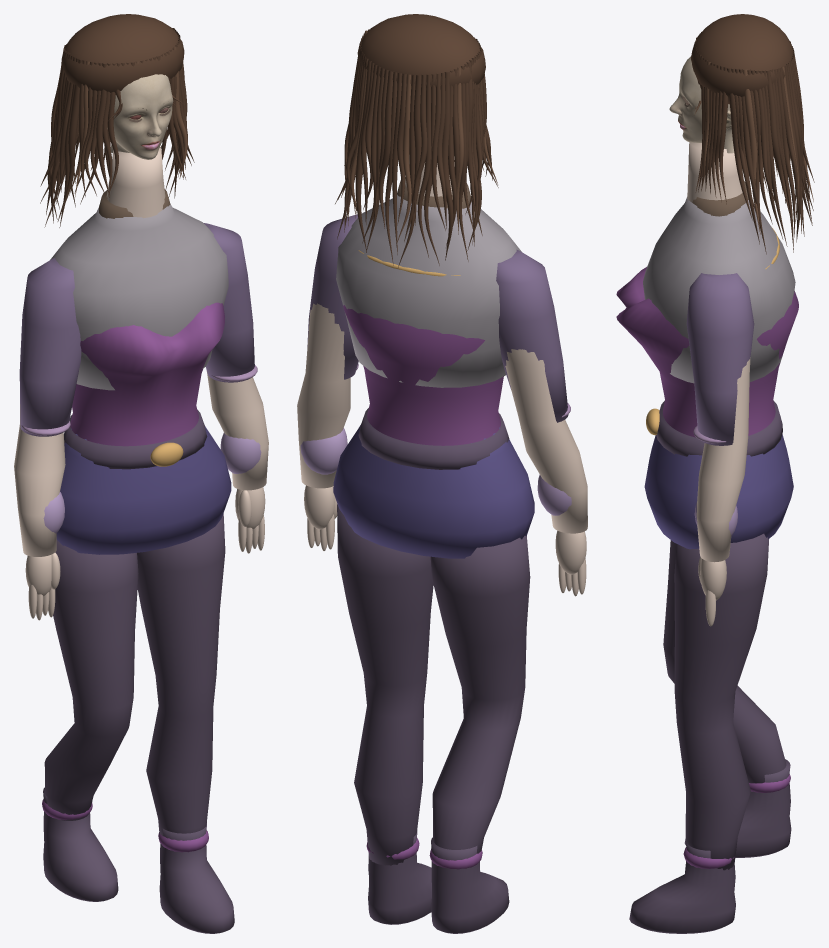
Rendered from katie_walk_2.glb.
3 renders of one model, left to right at view 1: azimuth 30°, elevation 25°; view 2: azimuth 150°, elevation 25°; view 3: azimuth 270°, elevation 25°, orthographic. The views are drawn at different scales.
Visible parts, largest first — view 1: Continuous trouser leg.001, Continuous trouser leg, Katie linen underlayer, Fitted hip panel, Violet sweetheart bodice, Katie smooth sleeve, Katie hair locks, Katie hair crown, Fitted boot.001, Fitted boot, Continuous arm, Katie smooth sleeve.001 (+12 smaller); view 2: Continuous trouser leg.001, Continuous trouser leg, Katie linen underlayer, Katie hair locks, Fitted hip panel, Violet sweetheart bodice, Continuous arm, Katie hair crown, Katie smooth sleeve, Continuous arm.001, Fitted boot, Fitted boot.001 (+7 smaller); view 3: Continuous trouser leg.001, Katie linen underlayer, Katie hair locks, Katie smooth sleeve.001, Fitted hip panel, Violet sweetheart bodice, Katie hair crown, Fitted boot.001, Continuous arm.001, Continuous trouser leg, Fitted boot, Waist belt (+6 smaller).
Boxes of the visible parts, x1=… form: Continuous trouser leg.001: x1=137, y1=513, x2=225, y2=835; Continuous trouser leg: x1=44, y1=540, x2=138, y2=820; Katie linen underlayer: x1=50, y1=203, x2=228, y2=390; Fitted hip panel: x1=56, y1=426, x2=231, y2=554; Violet sweetheart bodice: x1=70, y1=302, x2=224, y2=446; Katie smooth sleeve: x1=19, y1=258, x2=81, y2=436; Katie hair locks: x1=40, y1=29, x2=194, y2=227; Katie hair crown: x1=61, y1=14, x2=184, y2=94; Fitted boot.001: x1=159, y1=823, x2=234, y2=933; Fitted boot: x1=43, y1=787, x2=118, y2=901; Continuous arm: x1=14, y1=404, x2=65, y2=556; Katie smooth sleeve.001: x1=204, y1=223, x2=254, y2=382; Continuous trouser leg.001: x1=337, y1=504, x2=433, y2=865; Continuous trouser leg: x1=430, y1=536, x2=530, y2=853; Katie linen underlayer: x1=336, y1=194, x2=521, y2=387; Katie hair locks: x1=335, y1=29, x2=498, y2=268; Fitted hip panel: x1=333, y1=425, x2=534, y2=558; Violet sweetheart bodice: x1=343, y1=305, x2=503, y2=445; Continuous arm: x1=505, y1=349, x2=587, y2=533; Katie hair crown: x1=357, y1=14, x2=485, y2=89; Katie smooth sleeve: x1=496, y1=249, x2=568, y2=422; Continuous arm.001: x1=297, y1=303, x2=350, y2=488; Fitted boot: x1=431, y1=837, x2=509, y2=933; Fitted boot.001: x1=368, y1=831, x2=431, y2=924; Continuous trouser leg.001: x1=674, y1=533, x2=768, y2=870; Katie linen underlayer: x1=643, y1=197, x2=795, y2=383; Katie hair locks: x1=694, y1=32, x2=814, y2=254; Katie smooth sleeve.001: x1=686, y1=273, x2=754, y2=445; Fitted hip panel: x1=644, y1=434, x2=793, y2=549; Violet sweetheart bodice: x1=616, y1=267, x2=798, y2=437; Katie hair crown: x1=691, y1=14, x2=793, y2=104; Fitted boot.001: x1=629, y1=841, x2=735, y2=933; Continuous arm.001: x1=696, y1=357, x2=750, y2=562; Continuous trouser leg: x1=663, y1=540, x2=786, y2=783; Fitted boot: x1=684, y1=759, x2=791, y2=857; Waist belt: x1=656, y1=400, x2=782, y2=456.
Bounding box in the file's own units: 0.6866 × 2.23 × 0.4567.
Materials: 15 (2 with a texture image).
